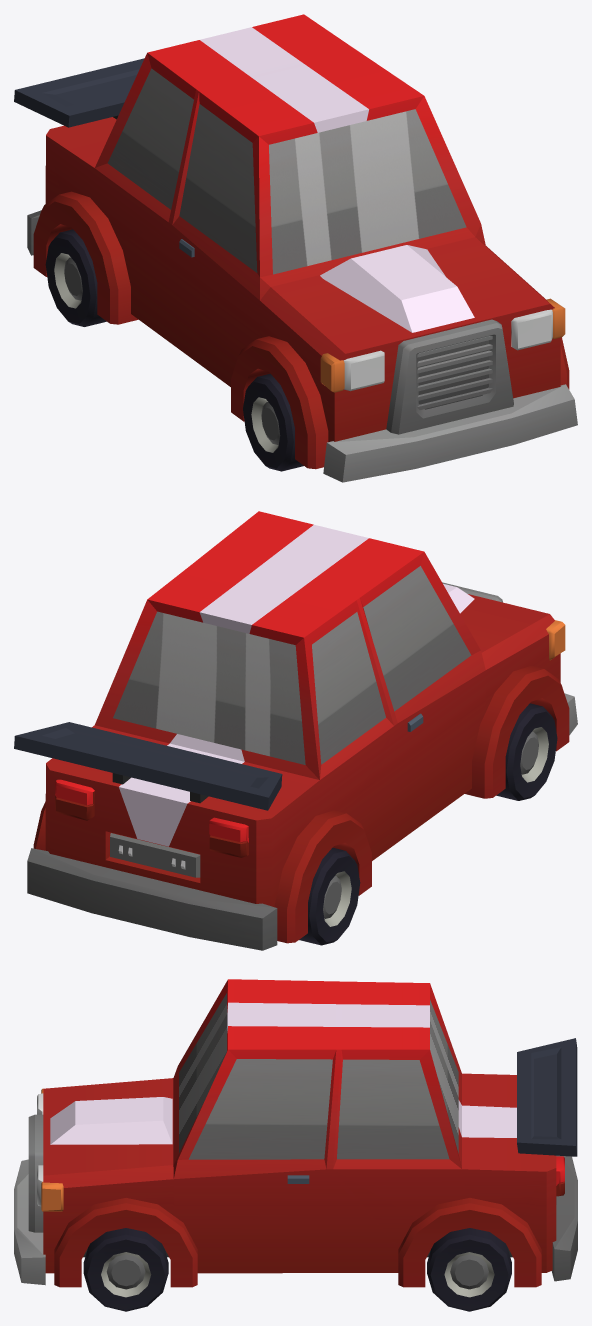
The model's file is SportCar_5.fbx.
3 renders of one model, top to bottom at view 1: azimuth 30°, elevation 25°; view 2: azimuth 150°, elevation 25°; view 3: azimuth 270°, elevation 25°, orthographic. The views are drawn at different scales.
Visible parts, largest first — view 1: SportCar_5, Wheel_fr, Wheel_br; view 2: SportCar_5, Wheel_br, Wheel_fr; view 3: SportCar_5, Wheel_fl, Wheel_bl.
Part boxes in pixels (bbox=[...]): SportCar_5: bbox=[14, 14, 577, 482]; Wheel_fr: bbox=[243, 373, 303, 471]; Wheel_br: bbox=[45, 229, 106, 326]; SportCar_5: bbox=[14, 511, 577, 950]; Wheel_br: bbox=[299, 847, 360, 945]; Wheel_fr: bbox=[496, 703, 557, 800]; SportCar_5: bbox=[14, 979, 577, 1287]; Wheel_fl: bbox=[83, 1228, 168, 1311]; Wheel_bl: bbox=[427, 1228, 511, 1311].
Size of the model in its own units: 112 by 110 by 233.
